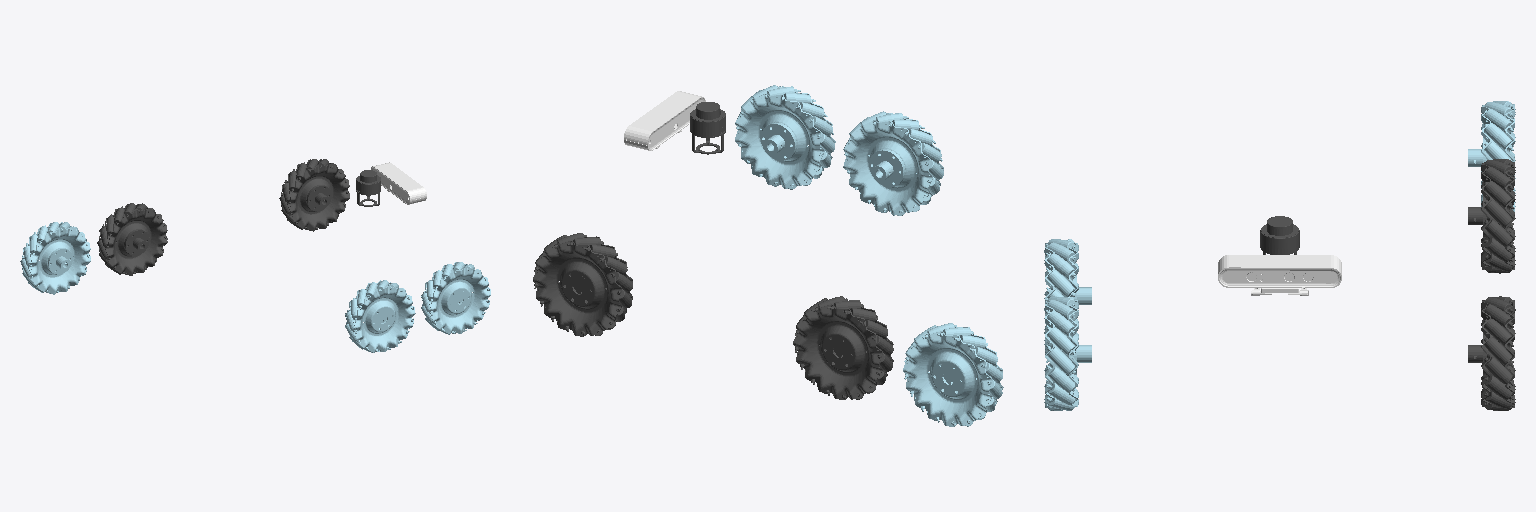
robot.urdf — top_mec_EightDrive_robot:
<?xml version="1.0" encoding="utf-8"?>
<!-- This URDF was automatically created by SolidWorks to URDF Exporter! Originally created by [author] ([email redacted]) 
     Commit Version: 1.6.0-4-g7f85cfe  Build Version: 1.6.7995.38578
     For more information, please see http://wiki.ros.org/sw_urdf_exporter -->
<robot
  name="top_mec_EightDrive_robot">
  <link
    name="base_link">
    <inertial>
      <origin
        xyz="-0.00350919100045993 0.000972422198653344 0.0616787989007192"
        rpy="0 0 0" />
      <mass
        value="10.253042543006" />
      <inertia
        ixx="0.0619463430125723"
        ixy="-0.000100508981373811"
        ixz="-5.21260994334635E-10"
        iyy="0.0696888082681683"
        iyz="-5.12172864748334E-07"
        izz="0.121037039687914" />
    </inertial>
    <visual>
      <origin
        xyz="0 0 0"
        rpy="0 0 0" />
      <geometry>
        <mesh
          filename="package://wheeltec_robot_urdf/meshes/top_mec_EightDrive_robot_meshes/base_link.STL" />
      </geometry>
      <material
        name="">
        <color
          rgba="1 1 1 1" />
      </material>
    </visual>
    <collision>
      <origin
        xyz="0 0 0"
        rpy="0 0 0" />
      <geometry>
        <mesh
          filename="package://wheeltec_robot_urdf/meshes/top_mec_EightDrive_robot_meshes/base_link.STL" />
      </geometry>
    </collision>
  </link>
  <link
    name="left_wheel1_link">
    <inertial>
      <origin
        xyz="-4.32739781150437E-06 -0.00188129053000718 -4.23069412872068E-06"
        rpy="0 0 0" />
      <mass
        value="0.237009465446872" />
      <inertia
        ixx="0.000456058933700928"
        ixy="2.2694210391122E-07"
        ixz="-5.85157010891908E-08"
        iyy="0.000867137219361634"
        iyz="-3.30594169904979E-08"
        izz="0.000455509021601446" />
    </inertial>
    <visual>
      <origin
        xyz="0 0 0"
        rpy="0 0 0" />
      <geometry>
        <mesh
          filename="package://wheeltec_robot_urdf/meshes/top_mec_EightDrive_robot_meshes/left_wheel1_link.STL" />
      </geometry>
      <material
        name="">
        <color
          rgba="0.376470588235294 0.376470588235294 0.376470588235294 1" />
      </material>
    </visual>
    <collision>
      <origin
        xyz="0 0 0"
        rpy="0 0 0" />
      <geometry>
        <mesh
          filename="package://wheeltec_robot_urdf/meshes/top_mec_EightDrive_robot_meshes/left_wheel1_link.STL" />
      </geometry>
    </collision>
  </link>
  <joint
    name="left_wheel1_joint"
    type="continuous">
    <origin
      xyz="0.305831276324481 0.289764120331855 0.037994000000001"
      rpy="0 0 0" />
    <parent
      link="base_link" />
    <child
      link="left_wheel1_link" />
    <axis
      xyz="0 1 0" />
  </joint>
  <link
    name="left_wheel2_link">
    <inertial>
      <origin
        xyz="-4.32739781364155E-06 -0.00188129053000696 -4.23069412837374E-06"
        rpy="0 0 0" />
      <mass
        value="0.237009465446874" />
      <inertia
        ixx="0.000456058933700931"
        ixy="2.26942103910967E-07"
        ixz="-5.85157010927438E-08"
        iyy="0.000867137219361633"
        iyz="-3.30594169900124E-08"
        izz="0.000455509021601441" />
    </inertial>
    <visual>
      <origin
        xyz="0 0 0"
        rpy="0 0 0" />
      <geometry>
        <mesh
          filename="package://wheeltec_robot_urdf/meshes/top_mec_EightDrive_robot_meshes/left_wheel2_link.STL" />
      </geometry>
      <material
        name="">
        <color
          rgba="0.376470588235294 0.376470588235294 0.376470588235294 1" />
      </material>
    </visual>
    <collision>
      <origin
        xyz="0 0 0"
        rpy="0 0 0" />
      <geometry>
        <mesh
          filename="package://wheeltec_robot_urdf/meshes/top_mec_EightDrive_robot_meshes/left_wheel2_link.STL" />
      </geometry>
    </collision>
  </link>
  <joint
    name="left_wheel2_joint"
    type="continuous">
    <origin
      xyz="0.125831276324481 0.289764120331855 0.037994000000001"
      rpy="0 0 0" />
    <parent
      link="base_link" />
    <child
      link="left_wheel2_link" />
    <axis
      xyz="0 1 0" />
  </joint>
  <link
    name="left_wheel3_link">
    <inertial>
      <origin
        xyz="-4.32739812805671E-06 -0.00188129052980335 -4.23069336007165E-06"
        rpy="0 0 0" />
      <mass
        value="0.23700946544203" />
      <inertia
        ixx="0.000456058933692087"
        ixy="2.26942101619565E-07"
        ixz="-5.85157043036887E-08"
        iyy="0.000867137219350863"
        iyz="-3.3059414560331E-08"
        izz="0.00045550902159644" />
    </inertial>
    <visual>
      <origin
        xyz="0 0 0"
        rpy="0 0 0" />
      <geometry>
        <mesh
          filename="package://wheeltec_robot_urdf/meshes/top_mec_EightDrive_robot_meshes/left_wheel3_link.STL" />
      </geometry>
      <material
        name="">
        <color
          rgba="0.376470588235294 0.376470588235294 0.376470588235294 1" />
      </material>
    </visual>
    <collision>
      <origin
        xyz="0 0 0"
        rpy="0 0 0" />
      <geometry>
        <mesh
          filename="package://wheeltec_robot_urdf/meshes/top_mec_EightDrive_robot_meshes/left_wheel3_link.STL" />
      </geometry>
    </collision>
  </link>
  <joint
    name="left_wheel3_joint"
    type="continuous">
    <origin
      xyz="-0.126168723675519 0.289764120331854 0.037994000000001"
      rpy="0 0 0" />
    <parent
      link="base_link" />
    <child
      link="left_wheel3_link" />
    <axis
      xyz="0 1 0" />
  </joint>
  <link
    name="left_wheel4_link">
    <inertial>
      <origin
        xyz="-4.18164729454329E-06 -0.00188129053000707 -4.23069412830435E-06"
        rpy="0 0 0" />
      <mass
        value="0.237009465446872" />
      <inertia
        ixx="0.000456058933700929"
        ixy="2.2694210391183E-07"
        ixz="-5.85157010877687E-08"
        iyy="0.000867137219361631"
        iyz="-3.30594169902435E-08"
        izz="0.000455509021601441" />
    </inertial>
    <visual>
      <origin
        xyz="0 0 0"
        rpy="0 0 0" />
      <geometry>
        <mesh
          filename="package://wheeltec_robot_urdf/meshes/top_mec_EightDrive_robot_meshes/left_wheel4_link.STL" />
      </geometry>
      <material
        name="">
        <color
          rgba="0.741176470588235 0.901960784313726 0.956862745098039 1" />
      </material>
    </visual>
    <collision>
      <origin
        xyz="0 0 0"
        rpy="0 0 0" />
      <geometry>
        <mesh
          filename="package://wheeltec_robot_urdf/meshes/top_mec_EightDrive_robot_meshes/left_wheel4_link.STL" />
      </geometry>
    </collision>
  </link>
  <joint
    name="left_wheel4_joint"
    type="continuous">
    <origin
      xyz="-0.308185723675519 0.289764120331853 0.0379940000000009"
      rpy="0 0 0" />
    <parent
      link="base_link" />
    <child
      link="left_wheel4_link" />
    <axis
      xyz="0 1 0" />
  </joint>
  <link
    name="right_wheel1_link">
    <inertial>
      <origin
        xyz="4.18164749280137E-06 0.00188129052986371 -4.23069381033647E-06"
        rpy="0 0 0" />
      <mass
        value="0.237009465444897" />
      <inertia
        ixx="0.000456058933697109"
        ixy="2.26942102964819E-07"
        ixz="5.85157029869317E-08"
        iyy="0.000867137219357441"
        iyz="3.30594154553728E-08"
        izz="0.00045550902159955" />
    </inertial>
    <visual>
      <origin
        xyz="0 0 0"
        rpy="0 0 0" />
      <geometry>
        <mesh
          filename="package://wheeltec_robot_urdf/meshes/top_mec_EightDrive_robot_meshes/right_wheel1_link.STL" />
      </geometry>
      <material
        name="">
        <color
          rgba="0.741176470588235 0.901960784313726 0.956862745098039 1" />
      </material>
    </visual>
    <collision>
      <origin
        xyz="0 0 0"
        rpy="0 0 0" />
      <geometry>
        <mesh
          filename="package://wheeltec_robot_urdf/meshes/top_mec_EightDrive_robot_meshes/right_wheel1_link.STL" />
      </geometry>
    </collision>
  </link>
  <joint
    name="right_wheel1_joint"
    type="continuous">
    <origin
      xyz="0.305832276324483 -0.290119879668145 0.037993999999999"
      rpy="0 0 0" />
    <parent
      link="base_link" />
    <child
      link="right_wheel1_link" />
    <axis
      xyz="0 -1 0" />
  </joint>
  <link
    name="right_wheel2_link">
    <inertial>
      <origin
        xyz="4.18164734405924E-06 0.00188129052998636 -4.23069403451826E-06"
        rpy="0 0 0" />
      <mass
        value="0.237009465446237" />
      <inertia
        ixx="0.000456058933699739"
        ixy="2.26942103704383E-07"
        ixz="5.85157015802966E-08"
        iyy="0.000867137219360443"
        iyz="3.30594166271188E-08"
        izz="0.00045550902160078" />
    </inertial>
    <visual>
      <origin
        xyz="0 0 0"
        rpy="0 0 0" />
      <geometry>
        <mesh
          filename="package://wheeltec_robot_urdf/meshes/top_mec_EightDrive_robot_meshes/right_wheel2_link.STL" />
      </geometry>
      <material
        name="">
        <color
          rgba="0.741176470588235 0.901960784313726 0.956862745098039 1" />
      </material>
    </visual>
    <collision>
      <origin
        xyz="0 0 0"
        rpy="0 0 0" />
      <geometry>
        <mesh
          filename="package://wheeltec_robot_urdf/meshes/top_mec_EightDrive_robot_meshes/right_wheel2_link.STL" />
      </geometry>
    </collision>
  </link>
  <joint
    name="right_wheel2_joint"
    type="continuous">
    <origin
      xyz="0.125832276324483 -0.290119879668145 0.037993999999999"
      rpy="0 0 0" />
    <parent
      link="base_link" />
    <child
      link="right_wheel2_link" />
    <axis
      xyz="0 -1 0" />
  </joint>
  <link
    name="right_wheel3_link">
    <inertial>
      <origin
        xyz="4.18164729443227E-06 0.00188129053000742 -4.23069412851251E-06"
        rpy="0 0 0" />
      <mass
        value="0.237009465446872" />
      <inertia
        ixx="0.000456058933700926"
        ixy="2.26942103911649E-07"
        ixz="5.85157010898774E-08"
        iyy="0.000867137219361628"
        iyz="3.30594169928342E-08"
        izz="0.000455509021601442" />
    </inertial>
    <visual>
      <origin
        xyz="0 0 0"
        rpy="0 0 0" />
      <geometry>
        <mesh
          filename="package://wheeltec_robot_urdf/meshes/top_mec_EightDrive_robot_meshes/right_wheel3_link.STL" />
      </geometry>
      <material
        name="">
        <color
          rgba="0.741176470588235 0.901960784313726 0.956862745098039 1" />
      </material>
    </visual>
    <collision>
      <origin
        xyz="0 0 0"
        rpy="0 0 0" />
      <geometry>
        <mesh
          filename="package://wheeltec_robot_urdf/meshes/top_mec_EightDrive_robot_meshes/right_wheel3_link.STL" />
      </geometry>
    </collision>
  </link>
  <joint
    name="right_wheel3_joint"
    type="continuous">
    <origin
      xyz="-0.126167723675517 -0.290119879668146 0.037993999999999"
      rpy="0 0 0" />
    <parent
      link="base_link" />
    <child
      link="right_wheel3_link" />
    <axis
      xyz="0 -1 0" />
  </joint>
  <link
    name="right_wheel4_link">
    <inertial>
      <origin
        xyz="4.18164729465431E-06 0.00188129053000732 -4.23069412759658E-06"
        rpy="0 0 0" />
      <mass
        value="0.237009465446872" />
      <inertia
        ixx="0.000456058933700925"
        ixy="2.26942103911215E-07"
        ixz="5.85157010895202E-08"
        iyy="0.000867137219361627"
        iyz="3.30594169934995E-08"
        izz="0.000455509021601442" />
    </inertial>
    <visual>
      <origin
        xyz="0 0 0"
        rpy="0 0 0" />
      <geometry>
        <mesh
          filename="package://wheeltec_robot_urdf/meshes/top_mec_EightDrive_robot_meshes/right_wheel4_link.STL" />
      </geometry>
      <material
        name="">
        <color
          rgba="0.741176470588235 0.901960784313726 0.956862745098039 1" />
      </material>
    </visual>
    <collision>
      <origin
        xyz="0 0 0"
        rpy="0 0 0" />
      <geometry>
        <mesh
          filename="package://wheeltec_robot_urdf/meshes/top_mec_EightDrive_robot_meshes/right_wheel4_link.STL" />
      </geometry>
    </collision>
  </link>
  <joint
    name="right_wheel4_joint"
    type="continuous">
    <origin
      xyz="-0.306167723675517 -0.290119879668147 0.037993999999999"
      rpy="0 0 0" />
    <parent
      link="base_link" />
    <child
      link="right_wheel4_link" />
    <axis
      xyz="0 -1 0" />
  </joint>
  <link
    name="controller_link">
    <inertial>
      <origin
        xyz="-0.0322400404542142 0.0783872861331458 0.0455371464156543"
        rpy="0 0 0" />
      <mass
        value="12.2099817302285" />
      <inertia
        ixx="0.431652049697927"
        ixy="0.000505367850571908"
        ixz="-0.000119235167873323"
        iyy="0.694813961148576"
        iyz="0.00050210104108111"
        izz="1.0794722287436" />
    </inertial>
    <visual>
      <origin
        xyz="0 0 0"
        rpy="0 0 0" />
      <geometry>
        <mesh
          filename="package://wheeltec_robot_urdf/meshes/top_mec_EightDrive_robot_meshes/controller_link.STL" />
      </geometry>
      <material
        name="">
        <color
          rgba="0.741176470588235 0.901960784313726 0.956862745098039 1" />
      </material>
    </visual>
    <collision>
      <origin
        xyz="0 0 0"
        rpy="0 0 0" />
      <geometry>
        <mesh
          filename="package://wheeltec_robot_urdf/meshes/top_mec_EightDrive_robot_meshes/controller_link.STL" />
      </geometry>
    </collision>
  </link>
  <joint
    name="controller_joint"
    type="fixed">
    <origin
      xyz="0.0308912883979451 -0.0775982034519097 0.0129999999999997"
      rpy="0 0 0" />
    <parent
      link="base_link" />
    <child
      link="controller_link" />
    <axis
      xyz="0 0 0" />
  </joint>
  <link
    name="camera_link">
    <inertial>
      <origin
        xyz="-1.49835977937551E-07 1.57122770766405E-07 1.07518939862494E-07"
        rpy="0 0 0" />
      <mass
        value="0.0559842530198433" />
      <inertia
        ixx="0.000130802201327715"
        ixy="-9.96618940991044E-07"
        ixz="1.62299343648538E-06"
        iyy="1.91236263376392E-05"
        iyz="-4.42333554798426E-08"
        izz="0.000131387474089775" />
    </inertial>
    <visual>
      <origin
        xyz="0 0 0"
        rpy="0 0 0" />
      <geometry>
        <mesh
          filename="package://wheeltec_robot_urdf/meshes/top_mec_EightDrive_robot_meshes/camera_link.STL" />
      </geometry>
      <material
        name="">
        <color
          rgba="1 1 1 1" />
      </material>
    </visual>
    <collision>
      <origin
        xyz="0 0 0"
        rpy="0 0 0" />
      <geometry>
        <mesh
          filename="package://wheeltec_robot_urdf/meshes/top_mec_EightDrive_robot_meshes/camera_link.STL" />
      </geometry>
    </collision>
  </link>
  <joint
    name="camera_joint"
    type="fixed">
    <origin
      xyz="0.339617276324482 4.51203318548865E-05 0.169704"
      rpy="0 0 0" />
    <parent
      link="base_link" />
    <child
      link="camera_link" />
    <axis
      xyz="0 0 0" />
  </joint>
  <link
    name="laser_link">
    <inertial>
      <origin
        xyz="-1.41239660400583E-06 -4.97603036553329E-09 -0.0286630730699492"
        rpy="0 0 0" />
      <mass
        value="0.00487350279505622" />
      <inertia
        ixx="1.86258760691645E-06"
        ixy="-2.58793766001559E-09"
        ixz="-2.38955186132337E-14"
        iyy="1.86258746483758E-06"
        iyz="-2.28917185194285E-15"
        izz="2.11422294867293E-06" />
    </inertial>
    <visual>
      <origin
        xyz="0 0 0"
        rpy="0 0 0" />
      <geometry>
        <mesh
          filename="package://wheeltec_robot_urdf/meshes/top_mec_EightDrive_robot_meshes/laser.STL" />
      </geometry>
      <material
        name="">
        <color
          rgba="0.376470588235294 0.376470588235294 0.376470588235294 1" />
      </material>
    </visual>
    <collision>
      <origin
        xyz="0 0 0"
        rpy="0 0 0" />
      <geometry>
        <mesh
          filename="package://wheeltec_robot_urdf/meshes/top_mec_EightDrive_robot_meshes/laser.STL" />
      </geometry>
    </collision>
  </link>
  <joint
    name="laser_joint"
    type="fixed">
    <origin
      xyz="0.265826276324482 -0.000177879668145448 0.195056"
      rpy="0 0 -3.14159265358979" />
    <parent
      link="base_link" />
    <child
      link="laser_link" />
    <axis
      xyz="0 0 0" />
  </joint>
</robot>

--- What the picture shows (computed from the rendered views, not written in the file) ---
3 views of the same robot in one strip: view 1: azimuth 30°, elevation 25°; view 2: azimuth 150°, elevation 25°; view 3: azimuth 270°, elevation 25° (orthographic).
Model top_mec_EightDrive_robot with 12 links and 11 joints (8 continuous, 3 fixed), rooted at base_link, posed every joint at zero.
Visible links, largest first — view 1: left_wheel4_link, left_wheel3_link, left_wheel1_link, right_wheel2_link, right_wheel1_link, camera_link, laser_link; view 2: left_wheel3_link, right_wheel2_link, right_wheel1_link, left_wheel1_link, left_wheel4_link, camera_link, laser_link; view 3: camera_link, left_wheel3_link, left_wheel1_link, right_wheel1_link, left_wheel4_link, right_wheel2_link, laser_link.
Link boxes in pixels (x1,y1,x2,y2): left_wheel4_link: [20, 222, 90, 294]; left_wheel3_link: [97, 203, 167, 275]; left_wheel1_link: [279, 159, 349, 231]; right_wheel2_link: [345, 280, 415, 352]; right_wheel1_link: [421, 262, 490, 334]; camera_link: [371, 162, 426, 204]; laser_link: [356, 170, 380, 206]; left_wheel3_link: [793, 296, 893, 399]; right_wheel2_link: [843, 111, 943, 215]; right_wheel1_link: [735, 85, 835, 189]; left_wheel1_link: [533, 233, 632, 336]; left_wheel4_link: [903, 323, 1003, 426]; camera_link: [624, 91, 705, 150]; laser_link: [690, 102, 725, 154]; camera_link: [1218, 255, 1341, 295]; left_wheel3_link: [1468, 159, 1515, 273]; left_wheel1_link: [1468, 296, 1515, 410]; right_wheel1_link: [1044, 296, 1091, 410]; left_wheel4_link: [1468, 101, 1515, 211]; right_wheel2_link: [1044, 239, 1091, 349]; laser_link: [1260, 216, 1299, 254].
Size in the robot's own frame: 0.7662 by 0.6249 by 0.251 metres.
7 mesh visuals loaded from 12 distinct referenced files (7 binary STL); not drawn: 5 (reference not matched to a file when rendering).